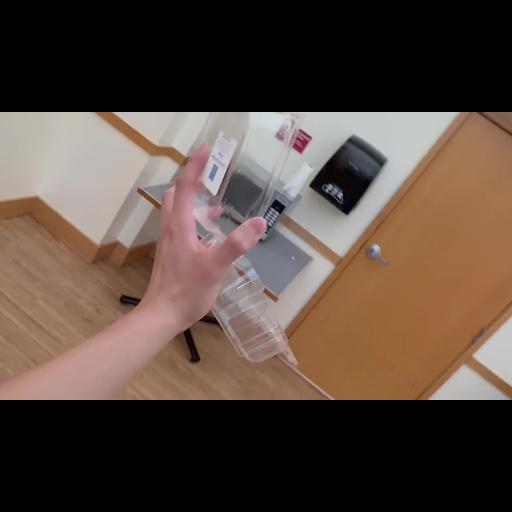small_plastic_container: (168, 115, 324, 369)
